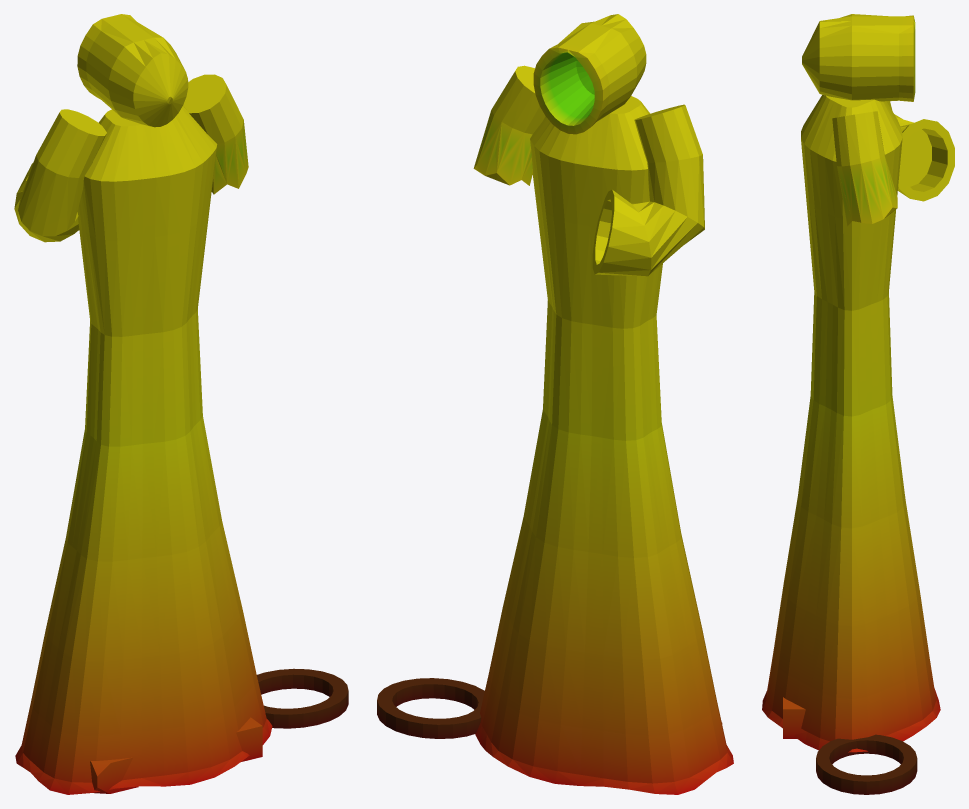
Rendered from statue_arm_broken.glb.
3 views of the same model, side by side, from view 1: azimuth 30°, elevation 25°; view 2: azimuth 150°, elevation 25°; view 3: azimuth 270°, elevation 25° (orthographic). The views are drawn at different scales.
Visible parts, largest first — view 1: statue_arm_broken; view 2: statue_arm_broken; view 3: statue_arm_broken.
Boxes of the visible parts, box(x1,y1,x2,y2) form: statue_arm_broken: box(14, 14, 348, 794); statue_arm_broken: box(377, 14, 733, 794); statue_arm_broken: box(762, 14, 954, 794).
Size of what is drawn, in the model's own units: 2.17 by 4.6 by 1.18.
